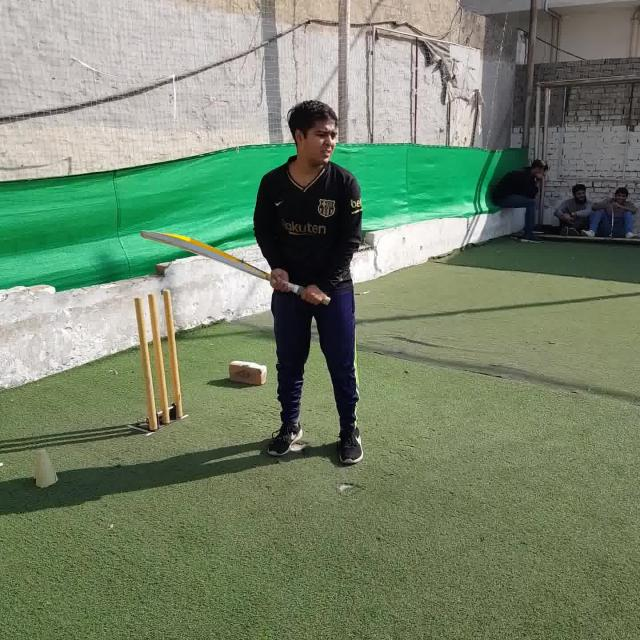bat: (139, 228, 331, 304)
